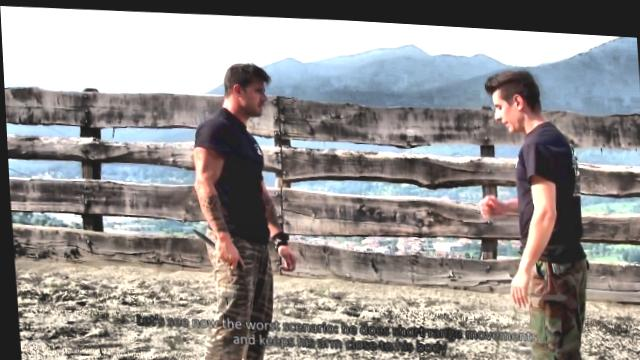knife: (186, 223, 244, 270)
